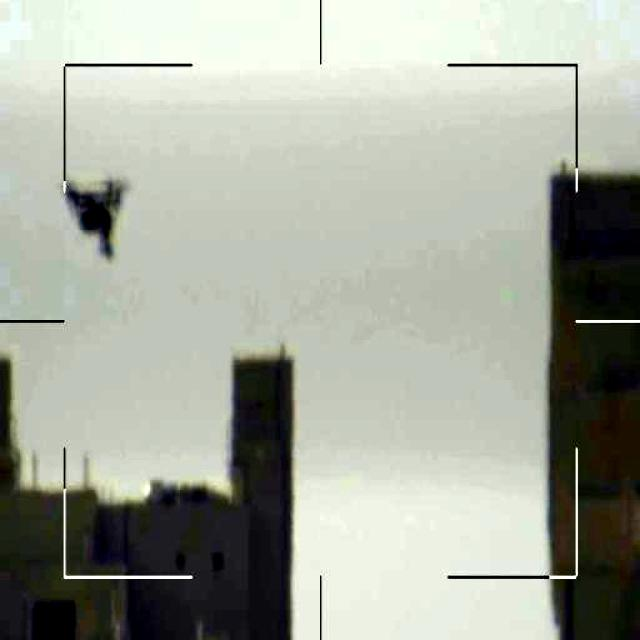bird: (66, 175, 125, 261)
